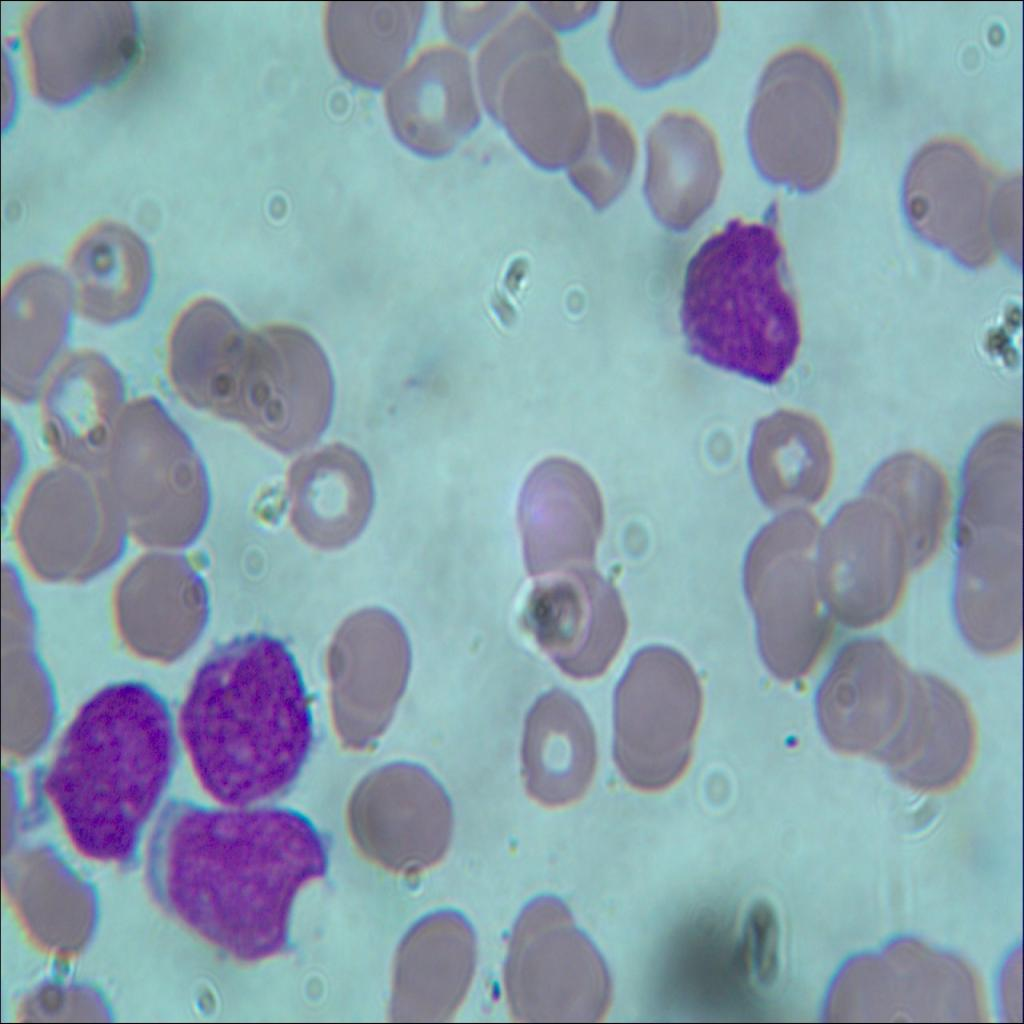Eritrosit: (602, 638, 710, 790), (230, 317, 338, 452), (740, 55, 842, 191), (808, 490, 909, 620), (380, 39, 486, 162), (386, 897, 481, 1023), (863, 442, 953, 575), (348, 754, 455, 865), (113, 550, 216, 662), (630, 104, 721, 230), (908, 148, 1003, 265), (280, 437, 374, 555), (19, 0, 116, 114), (168, 292, 254, 420), (746, 562, 836, 684), (738, 398, 835, 511), (520, 678, 598, 817), (510, 920, 613, 1023), (39, 343, 126, 462), (13, 839, 96, 962), (504, 54, 593, 168), (539, 561, 626, 677), (475, 9, 559, 128), (326, 601, 409, 721), (733, 497, 816, 616), (514, 456, 602, 568), (92, 394, 178, 508), (23, 464, 101, 583), (558, 101, 641, 210), (0, 265, 76, 384), (130, 447, 214, 554), (66, 218, 153, 321), (323, 0, 412, 100), (894, 682, 976, 784), (954, 532, 1023, 651), (955, 458, 1023, 578), (601, 0, 686, 95), (824, 628, 891, 746), (866, 660, 930, 764)
Limfoblast: (164, 798, 330, 961), (46, 675, 176, 862), (678, 218, 811, 394), (186, 621, 306, 802)
Platelet: (779, 725, 803, 770), (478, 974, 506, 1004)
